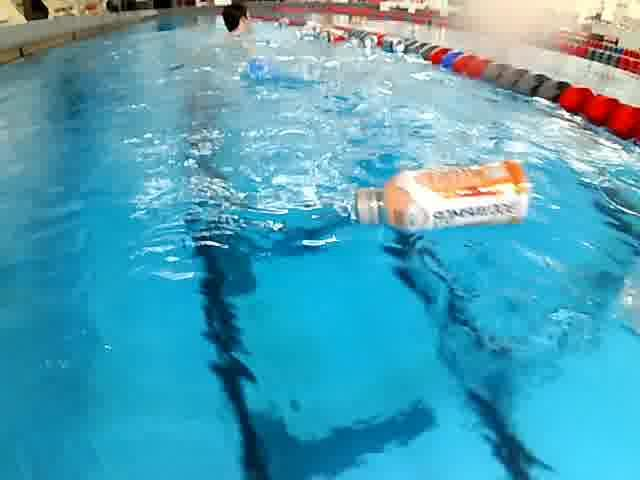Bottle: (350, 149, 546, 223)
Can: (385, 34, 409, 60), (324, 26, 350, 48), (295, 25, 322, 45), (363, 27, 379, 52)
